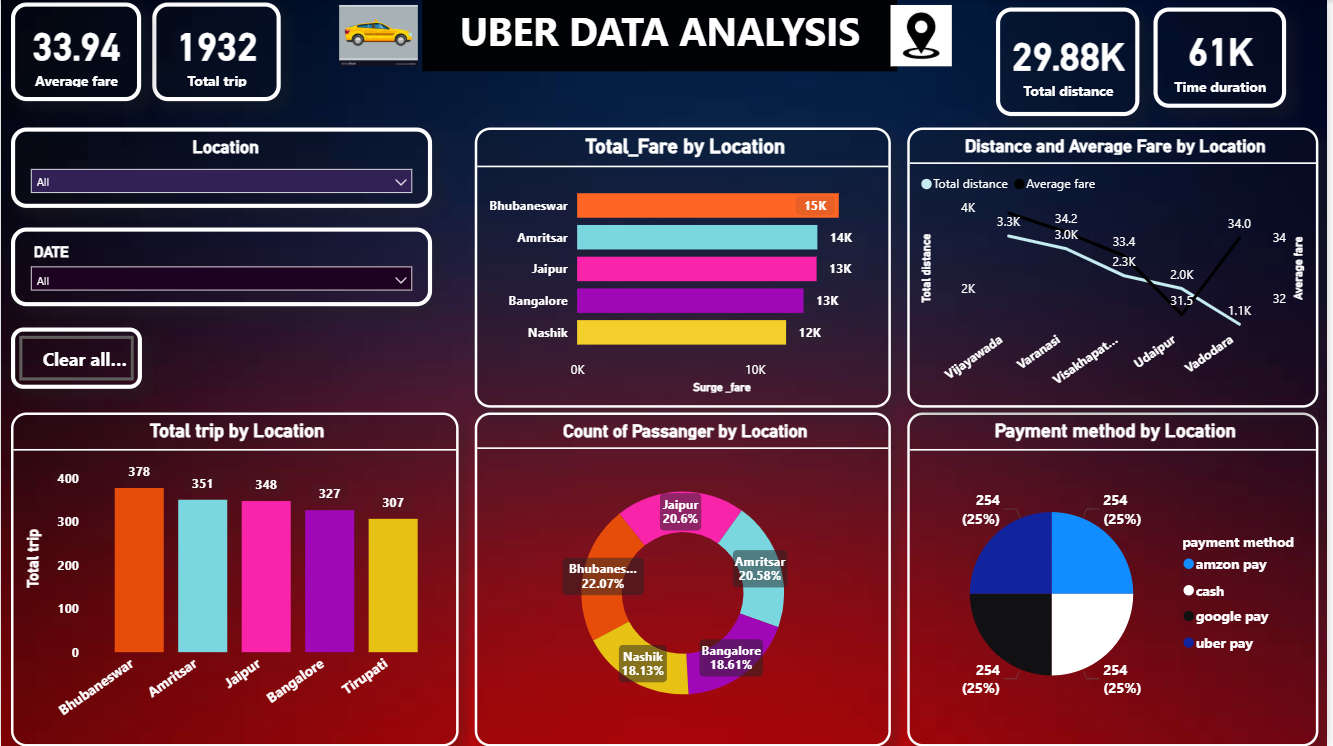

The page's visual inventory and layout, read from the dashboard file:
{"tool":"powerbi","page":{"name":"Page 1","canvas":[1280,720],"ordinal":0},"visuals":[{"type":"columnChart","title":" Total trip by Location","fields":{"Category":["location_data.location_name"],"Y":["location_data.Total trip"]},"box":[9.7,398.1,431.9,322.1],"z":0},{"type":"barChart","title":"Total_Fare by Location","fields":{"Category":["location_data.location_name"],"Y":["Sum(uber_trip_data.total)"]},"box":[457.2,123.1,401.7,270.2],"z":1000},{"type":"pieChart","title":"Payment method by Location","fields":{"Category":["uber_trip_data.payment method"],"Y":["CountNonNull(location_data.location_name)"]},"box":[874.7,398.1,396.9,322.1],"z":2000},{"type":"slicer","title":"Location","fields":{"Values":["location_data.location_name"]},"box":[9.7,123.1,406.6,77.2],"z":3000},{"type":"card","fields":{"Values":["uber_trip_data.total distance"]},"box":[960.3,7.2,138.7,105],"z":4000},{"type":"card","fields":{"Values":["location_data.Total trip"]},"box":[146,2.4,124.3,95.3],"z":5000},{"type":"card","fields":{"Values":["location_data.avrrage fare"]},"box":[9.7,2.4,125.5,95.3],"z":6000},{"type":"actionButton","box":[9.7,316.1,126.7,59.1],"z":7000},{"type":"donutChart","title":"Count of Passanger  by Location","fields":{"Category":["location_data.location_name"],"Y":["Sum(uber_trip_data.passenger_count)"]},"box":[457.2,398.1,401.7,322.1],"z":8000},{"type":"lineChart","title":"Distance and Average Fare by Location","fields":{"Category":["location_data.location_name"],"Y":["uber_trip_data.total distance"],"Y2":["location_data.avrrage fare"]},"box":[874.7,123.1,396.9,270.2],"z":9000},{"type":"card","fields":{"Values":["location_data.Time duration"]},"box":[1112.3,7.2,127.9,96.5],"z":10000},{"type":"textbox","box":[406.6,0,458.4,68.8],"z":11000},{"type":"slicer","title":"Surge _Fare by Location","fields":{"Values":["uber_trip_data.pick up date"]},"box":[9.7,219.6,406.6,76],"z":12000},{"type":"image","box":[287.1,0,154.4,68.8],"z":14000},{"type":"image","box":[845.7,0,84.5,68.8],"z":15000}]}

Visuals, with their boxes in screenshot pixels (x1, y1, x2, y2), scaled from the page's 1280x720 canvas onto the 1333x746 screenshot:
" Total trip by Location" columnChart: <region>10, 412, 460, 745</region>
"Total_Fare by Location" barChart: <region>476, 128, 894, 408</region>
"Payment method by Location" pieChart: <region>911, 412, 1324, 745</region>
"Location" slicer: <region>10, 128, 434, 208</region>
card - uber_trip_data.total distance: <region>1000, 7, 1145, 116</region>
card - location_data.Total trip: <region>152, 2, 281, 101</region>
card - location_data.avrrage fare: <region>10, 2, 141, 101</region>
actionButton: <region>10, 328, 142, 389</region>
"Count of Passanger  by Location" donutChart: <region>476, 412, 894, 745</region>
"Distance and Average Fare by Location" lineChart: <region>911, 128, 1324, 408</region>
card - location_data.Time duration: <region>1158, 7, 1292, 107</region>
textbox: <region>423, 0, 901, 71</region>
"Surge _Fare by Location" slicer: <region>10, 228, 434, 306</region>
image: <region>299, 0, 460, 71</region>
image: <region>881, 0, 969, 71</region>
